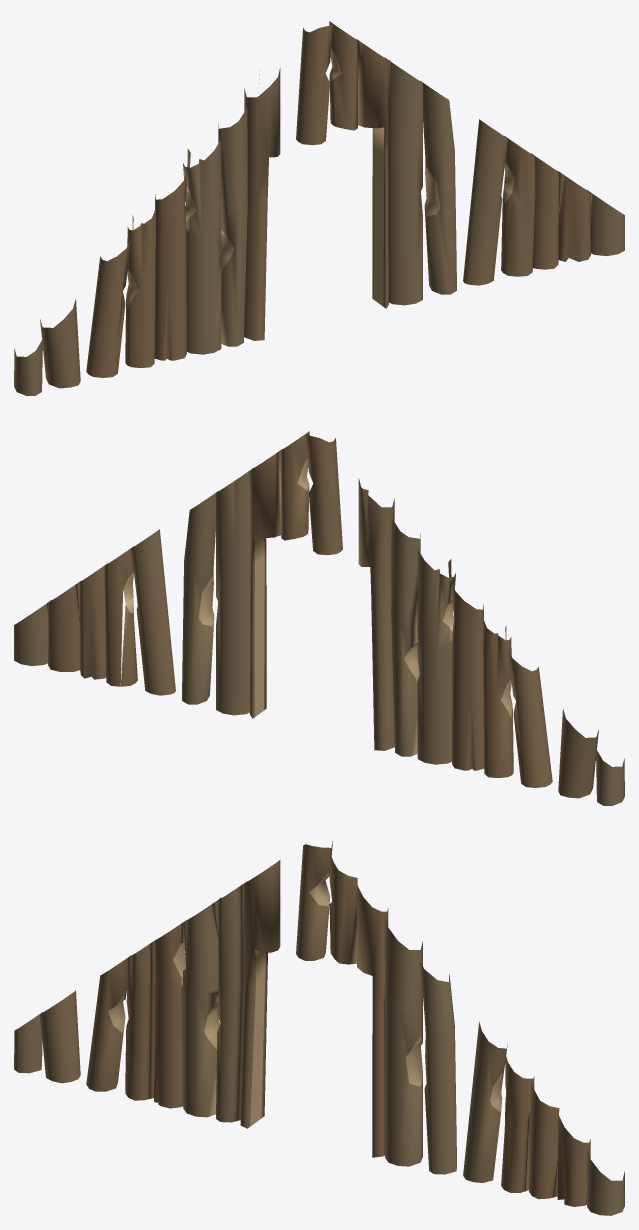
The model's file is rpgpp_av_roof_end_01_9x4_wall_door_04a.gltf.
The picture shows the model from 3 angles, top to bottom: view 1: azimuth 30°, elevation 25°; view 2: azimuth 150°, elevation 25°; view 3: azimuth 330°, elevation 25°; orthographic projection.
Parts seen in each view (by area): view 1: rpgpp_av_roof_end_01_9x4_wall_door_04a; view 2: rpgpp_av_roof_end_01_9x4_wall_door_04a; view 3: rpgpp_av_roof_end_01_9x4_wall_door_04a.
Boxes of the visible parts, x1=… form: rpgpp_av_roof_end_01_9x4_wall_door_04a: x1=14, y1=21, x2=624, y2=395; rpgpp_av_roof_end_01_9x4_wall_door_04a: x1=14, y1=431, x2=624, y2=805; rpgpp_av_roof_end_01_9x4_wall_door_04a: x1=14, y1=840, x2=624, y2=1215.
Bounding box in the file's own units: 0.09 × 0.0423 × 0.00463.
Materials: 1 (1 with a texture image).
